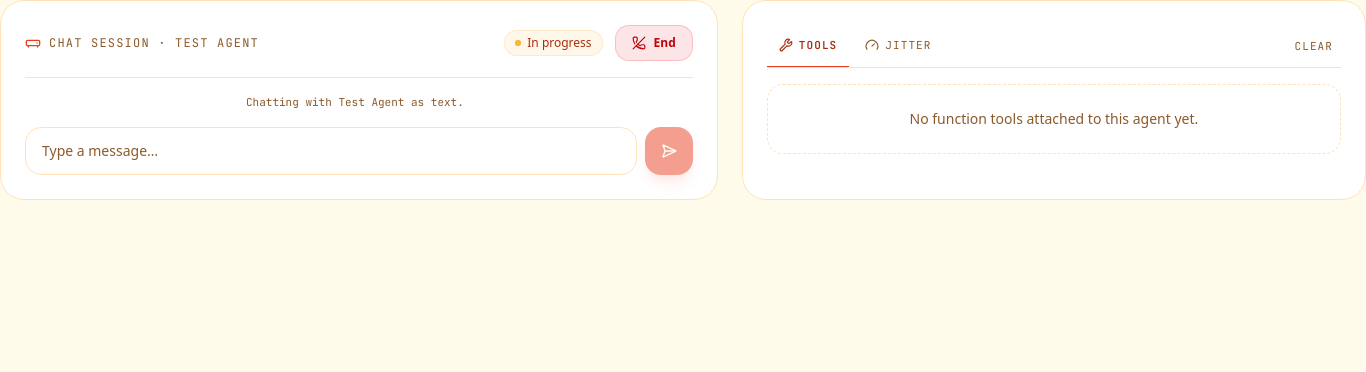
Scenario: ChatTalk over HTTP (specs 0038 + 0039) › shows the voice-only notice on 400 channel mismatch
Expected: the text "Chatting with Test Agent as text." is shown, [246,95,464,109]
In the field named "Chat message": (331, 150) [25,126,637,174], type "Hi"
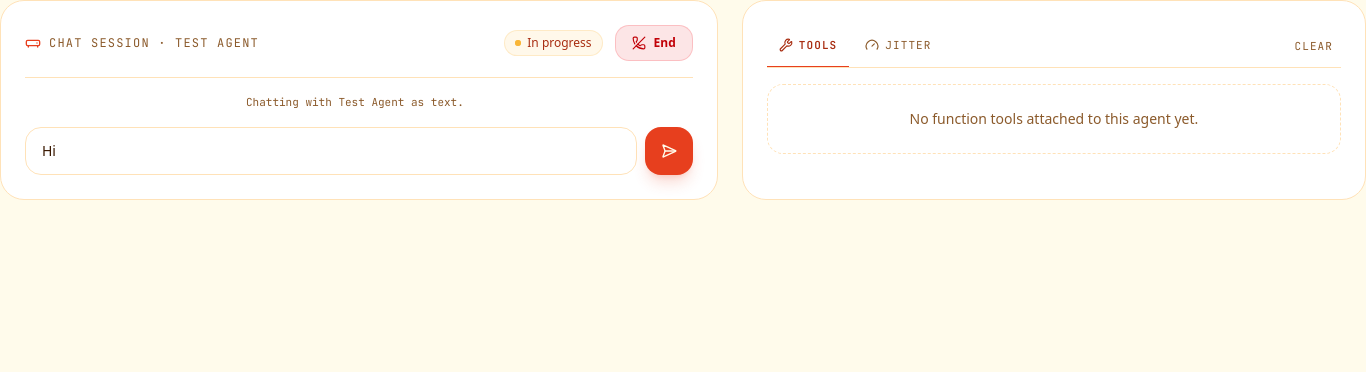
Click the button named "Send message": (669, 150) [645,126,693,174]
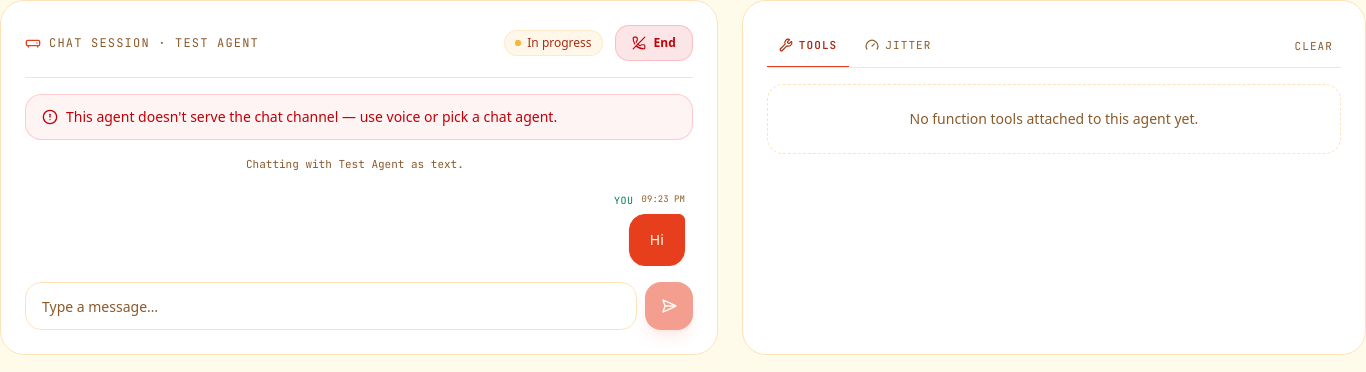
Expected: the text "This agent doesn't serve the chat channel — use voice or pick a chat agent." is shown, [25,94,693,140]
